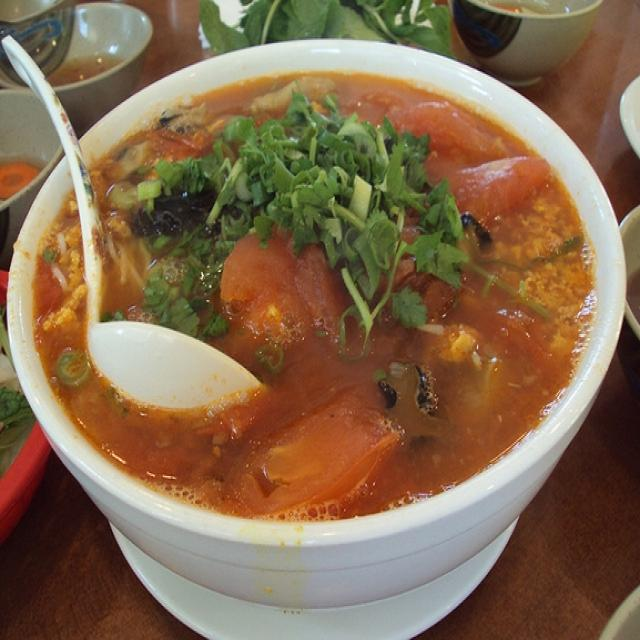面条主食: (5, 27, 628, 637)
